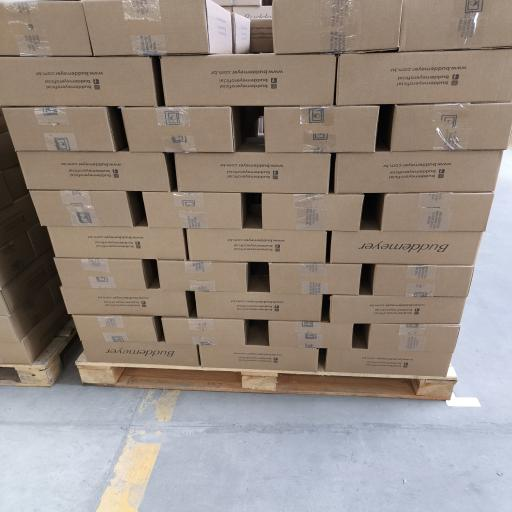pallet: (76, 354, 456, 400), (0, 319, 76, 386)
